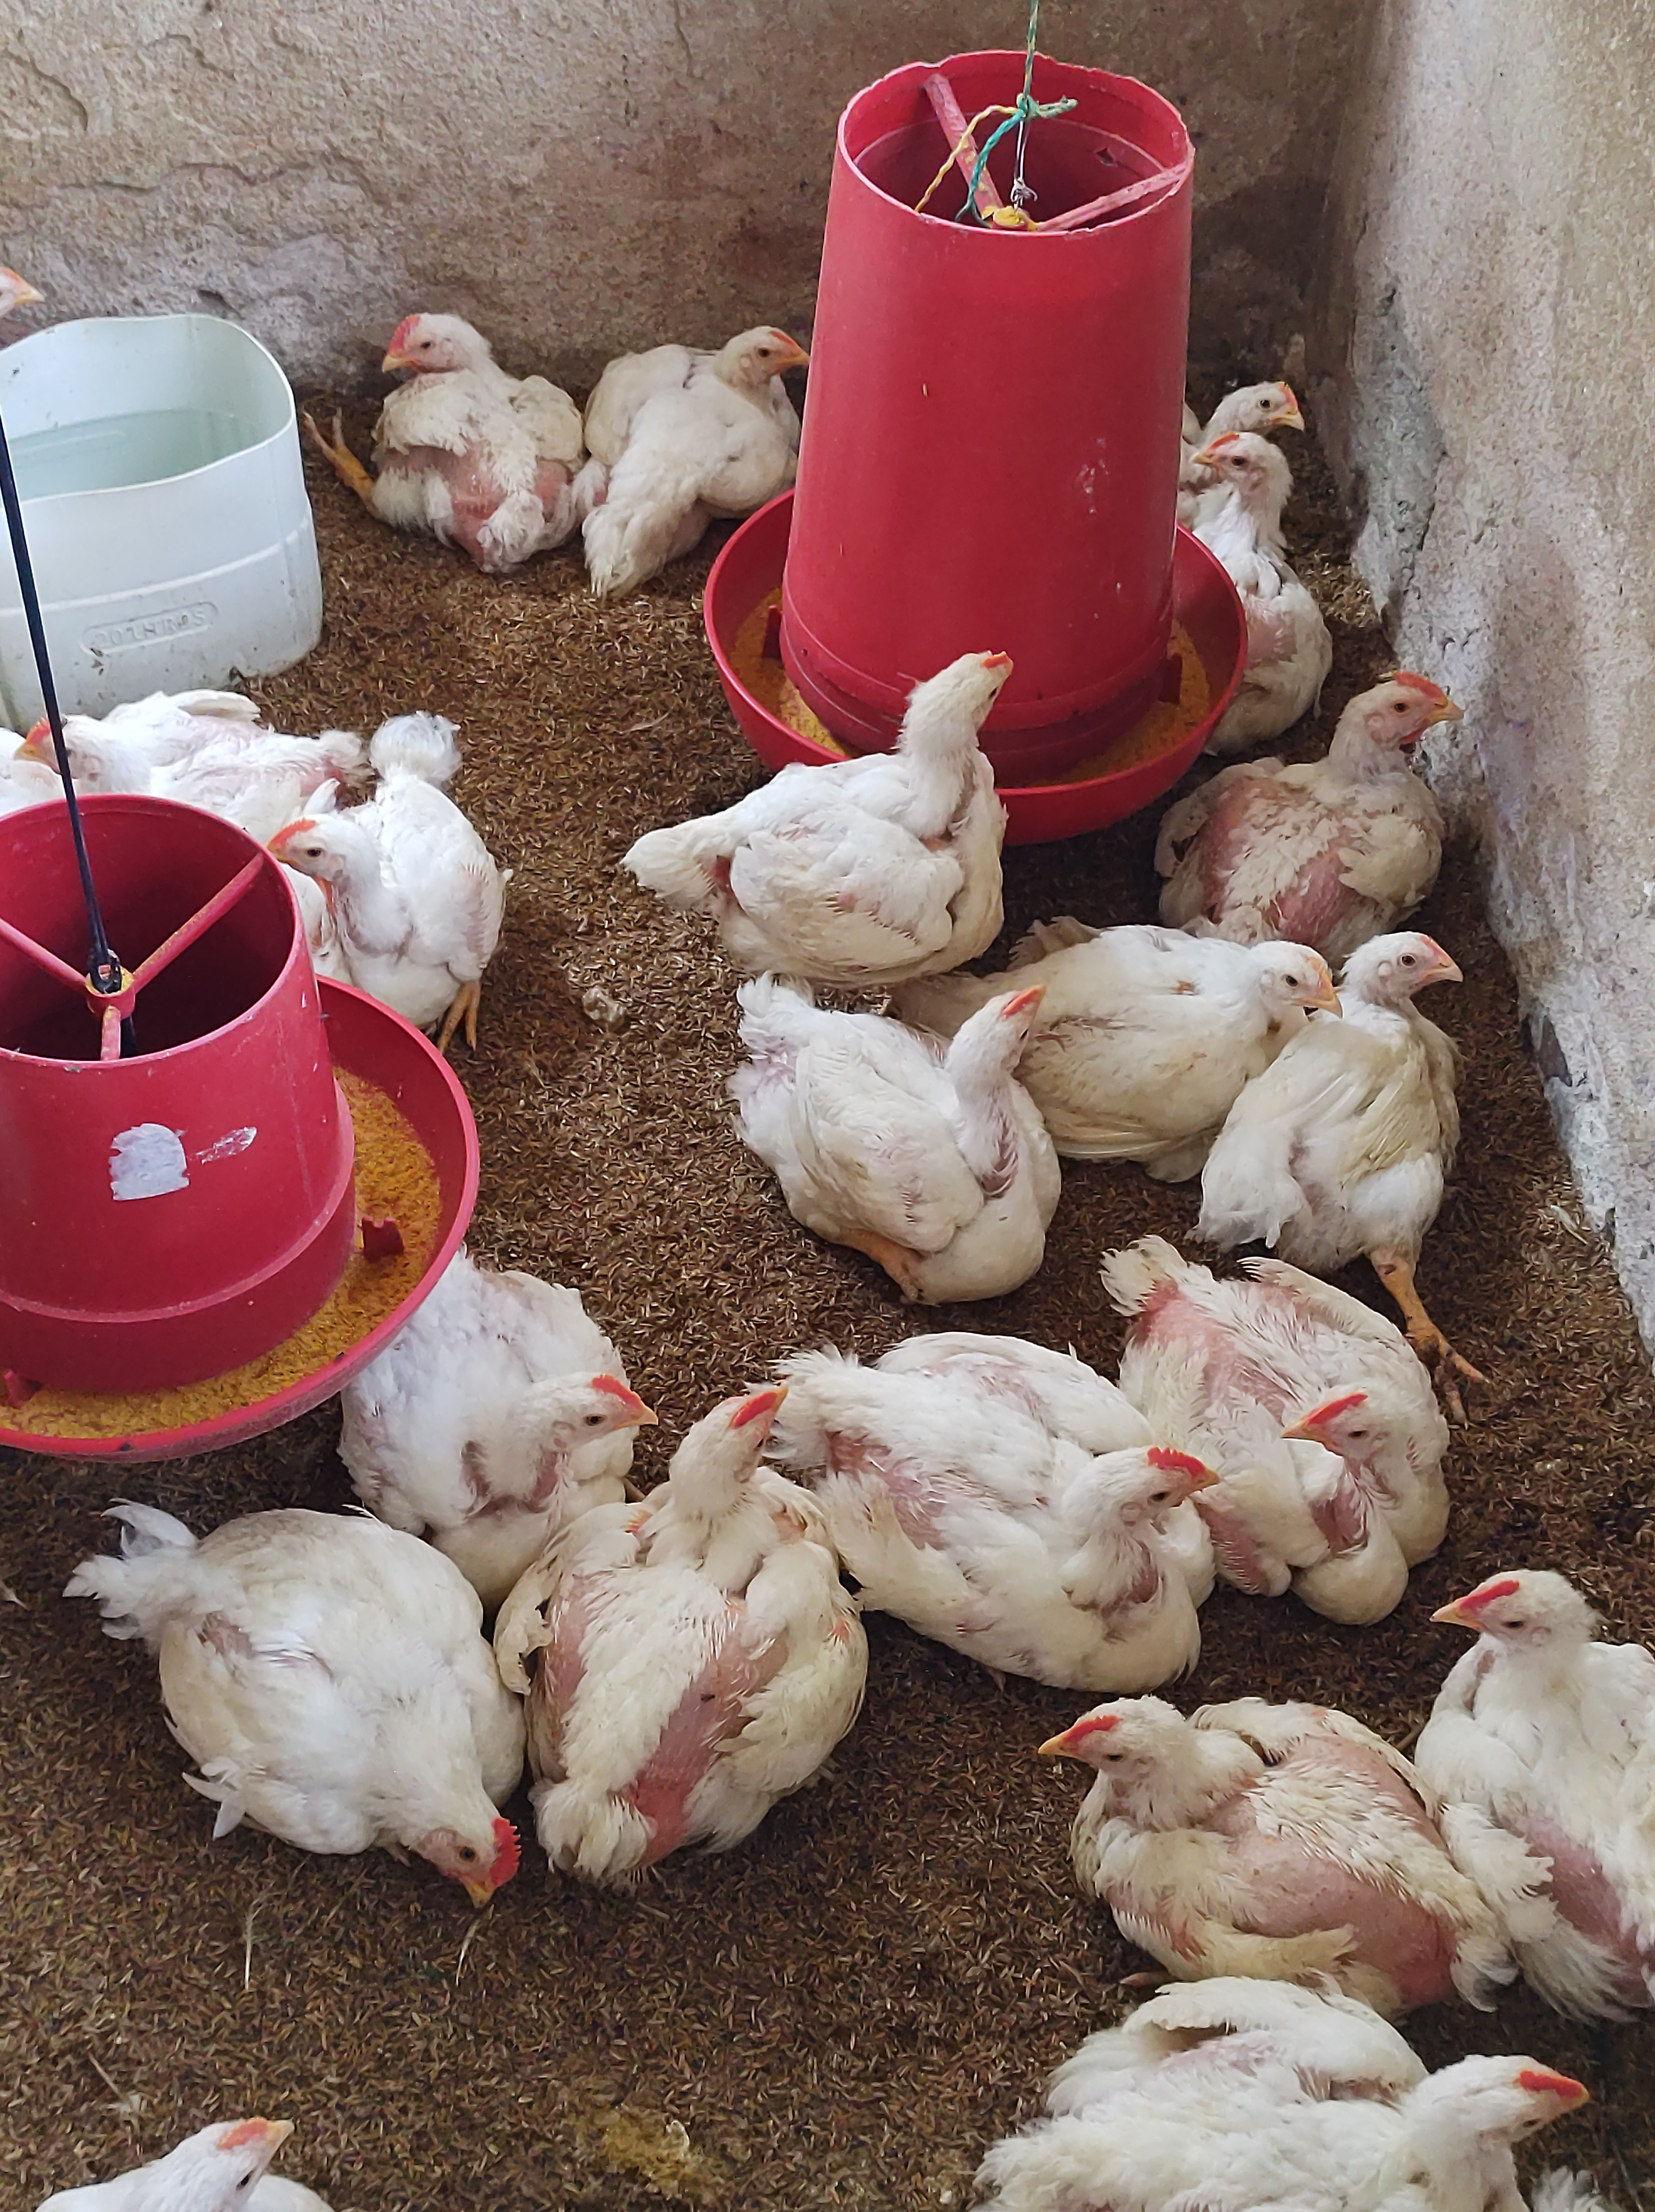Pollos: (90, 1475, 527, 1935), (930, 1922, 1584, 2212), (508, 1377, 852, 1887), (779, 1304, 1220, 1689), (1001, 1640, 1472, 1949), (662, 936, 1085, 1276), (687, 640, 1090, 922), (1182, 1212, 1467, 1605), (1147, 645, 1486, 922), (998, 903, 1356, 1155), (1424, 1529, 1655, 1916), (275, 713, 532, 1049), (565, 310, 871, 586), (318, 268, 575, 586), (353, 1233, 648, 1499), (0, 626, 283, 868), (1147, 417, 1361, 718), (1293, 903, 1492, 1217), (28, 2085, 391, 2212), (1133, 355, 1372, 490)
